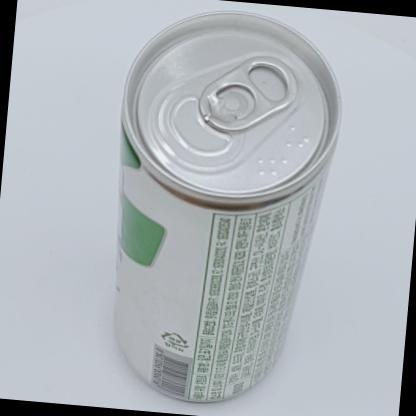alumunium_can: (93, 0, 352, 416)
